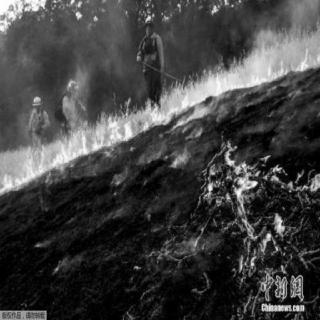Fire: (0, 26, 318, 189)
